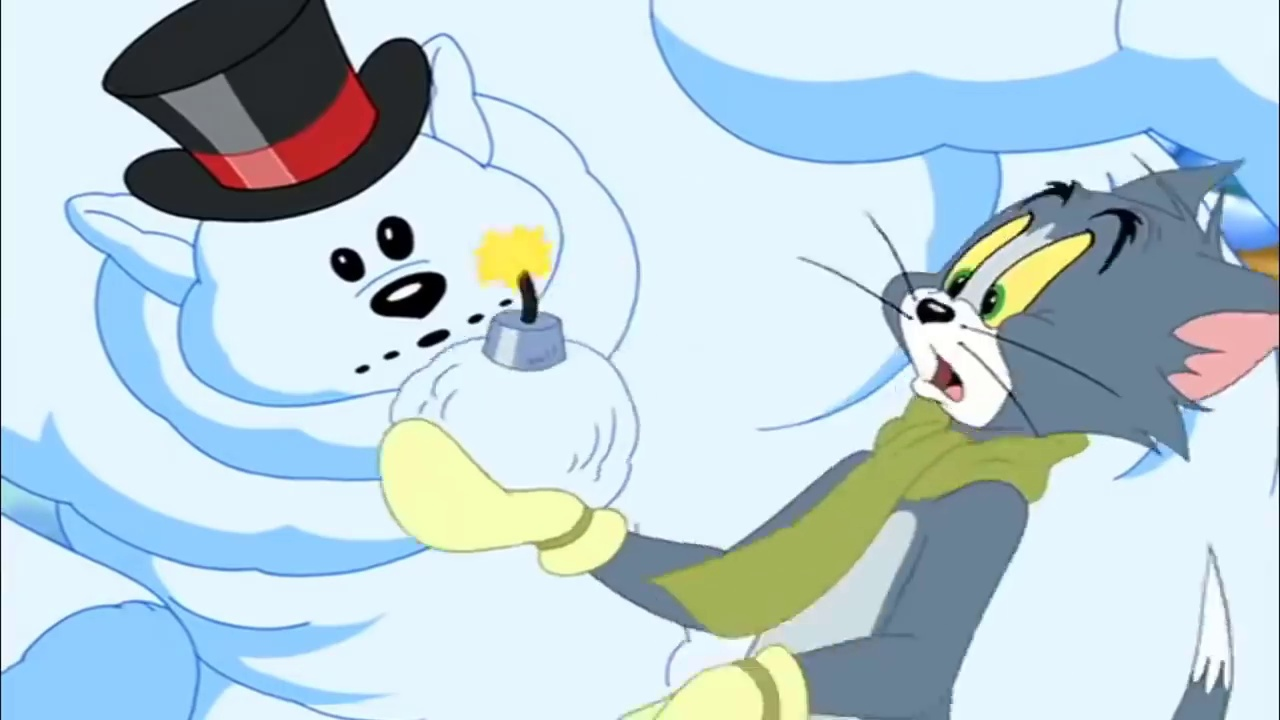face: (896, 181, 1146, 428)
